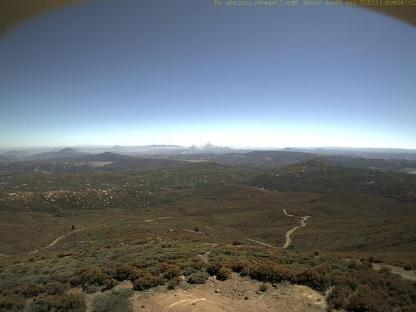smoke: (178, 140, 240, 156)
